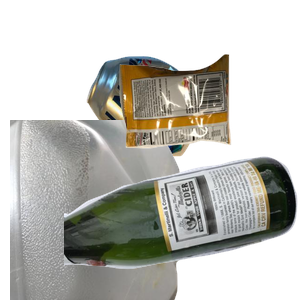glass: (64, 154, 300, 300)
metal: (84, 53, 279, 202)
plastic: (10, 120, 190, 300)
trash: (117, 52, 300, 193)
